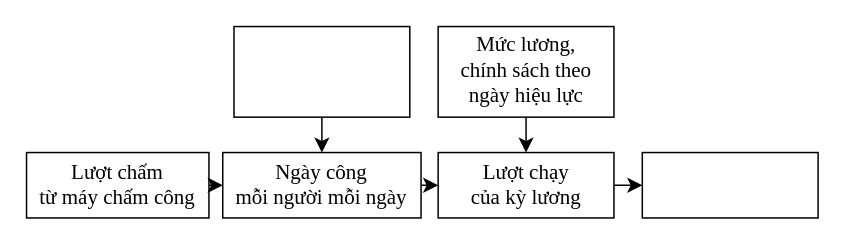
Image size: 845x245. Some labels were removed from this diagram. The shapes that lost their labels are listed below. From the top down, each one's centre as x and y in pixels, then its label:
At (x=321, y=71): "Ca làm, ngày lễ, đơn nghỉ, đơn làm thêm".
At (x=729, y=184): "Phiếu lương sau khi chốt kỳ".
